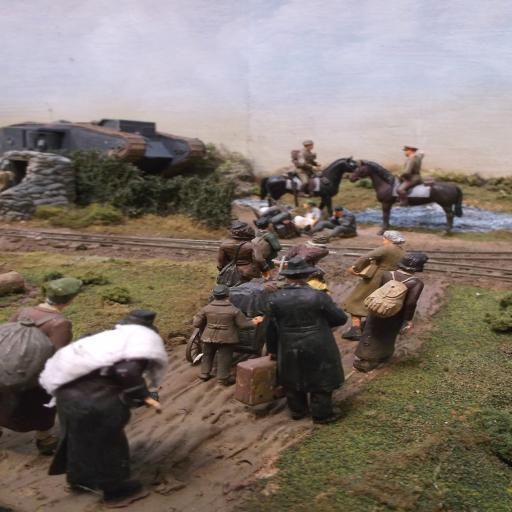horse: (347, 158, 463, 236), (256, 156, 356, 208)
